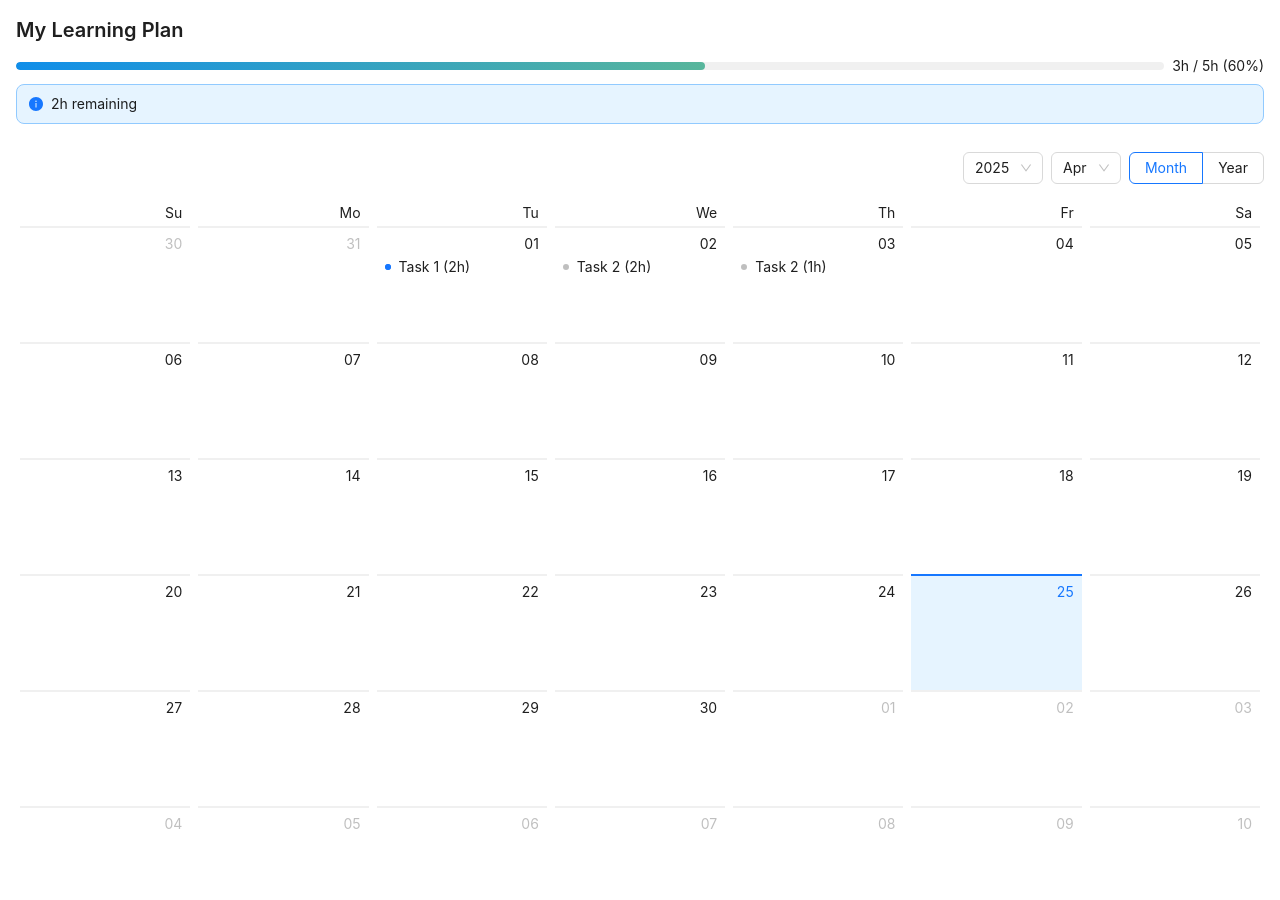
Test: LinearTaskCalendar Component › displays tasks in the calendar and opens modal on day click
# Click on the day to open the modal
Click the text "Task 1 (2h)". click: x=434, y=266
box: [399,258,470,275]
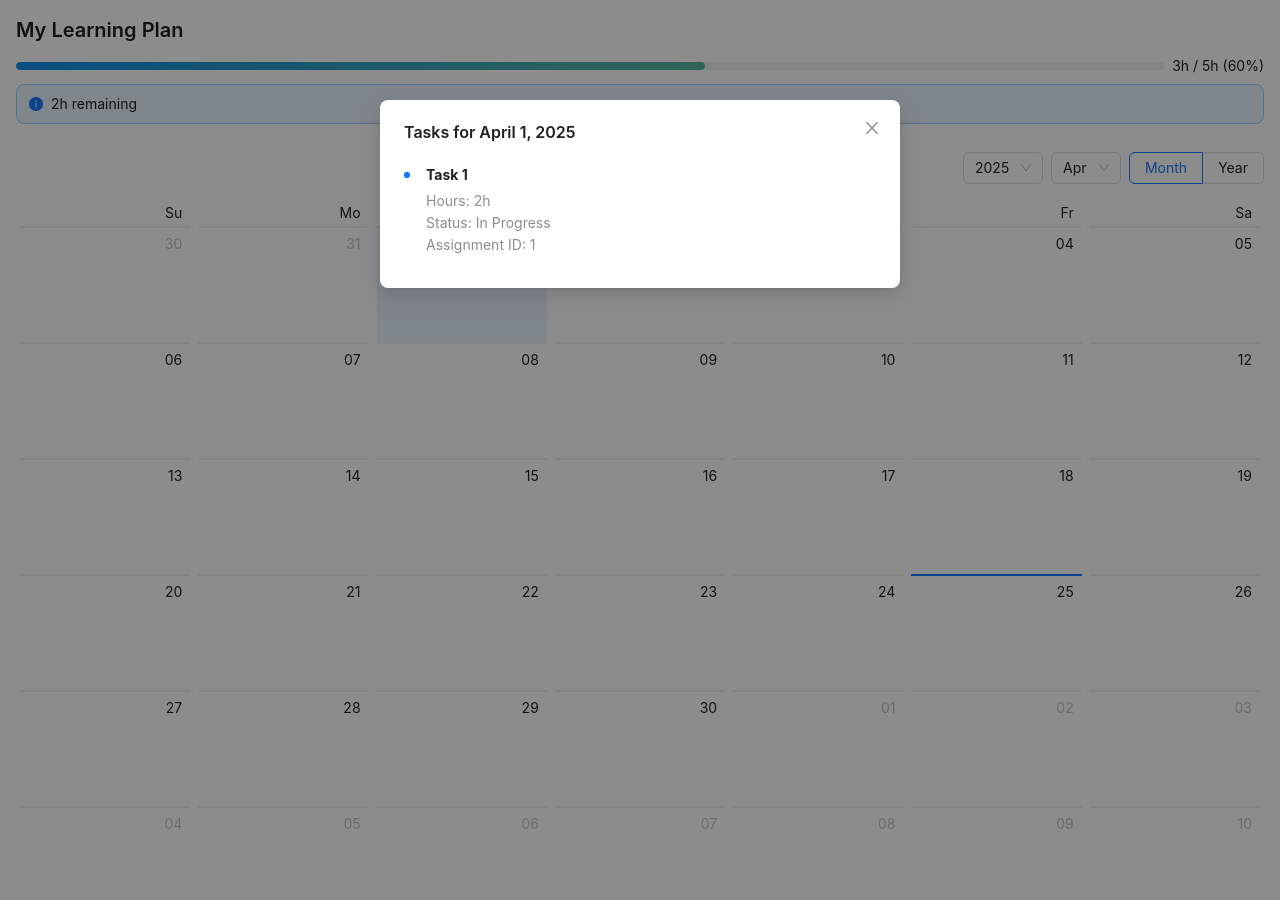
Now the dialog is shown, box [380,100,900,312]
Now the heading "Task 1" is shown, box [426,166,468,183]
Now the text "Hours: 2h" is shown, box [426,192,490,209]
